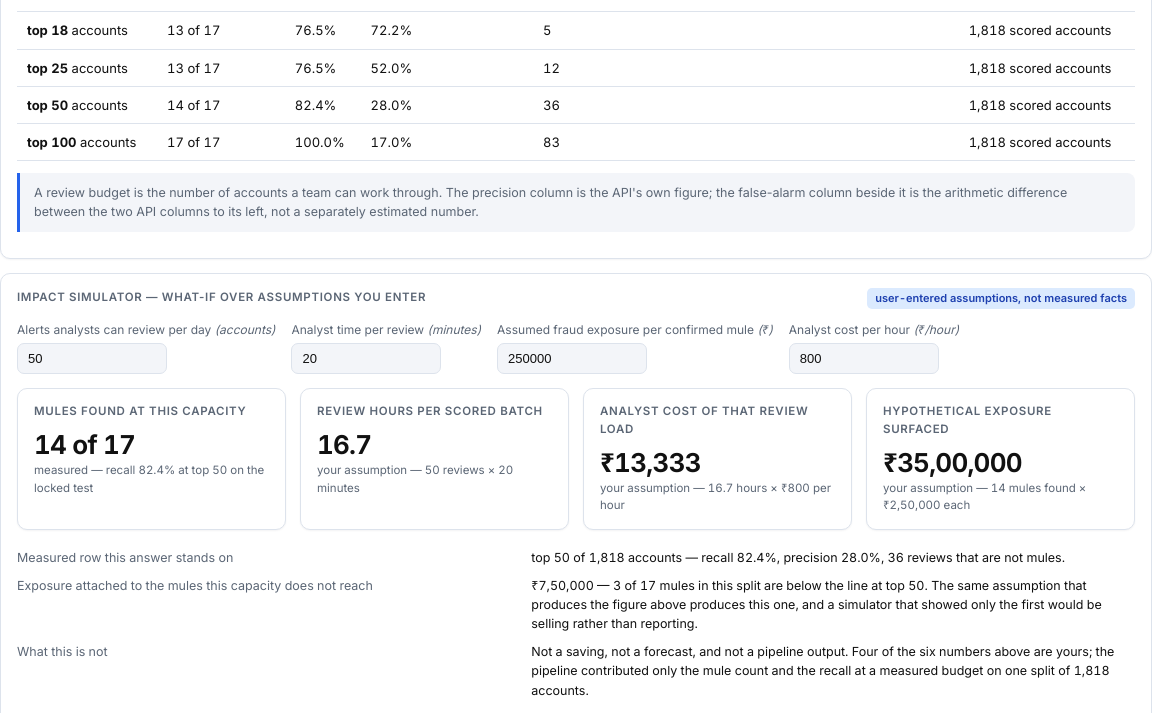
new pages render real API payloads › Impact Simulator prices the user's assumptions against a measured row
(page scrolled)
Expected: the heading "Impact Simulator — what-if over assumptions you enter" is shown, [17,289,426,307]
Expected: the text "user-entered assumptions, not measured facts" is shown, [867,288,1135,309]
Replace the text in the number field labelled "Assumed fraud exposure per confirmed mule (₹)" with "500000": point(572, 359) [497,343,647,374]
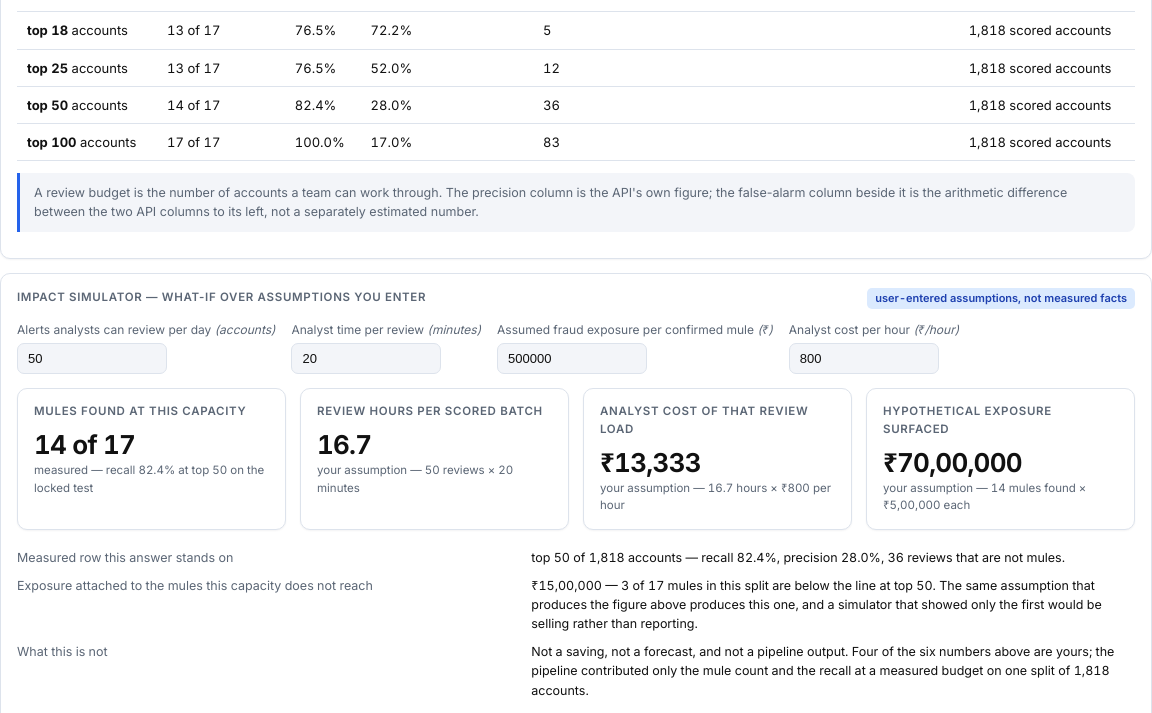
# Below every measured budget the panel refuses rather than extrapolating.
Replace the text in the number field labelled "Alerts analysts can review per day (accounts)" with "3": point(92, 359) [17,343,167,374]
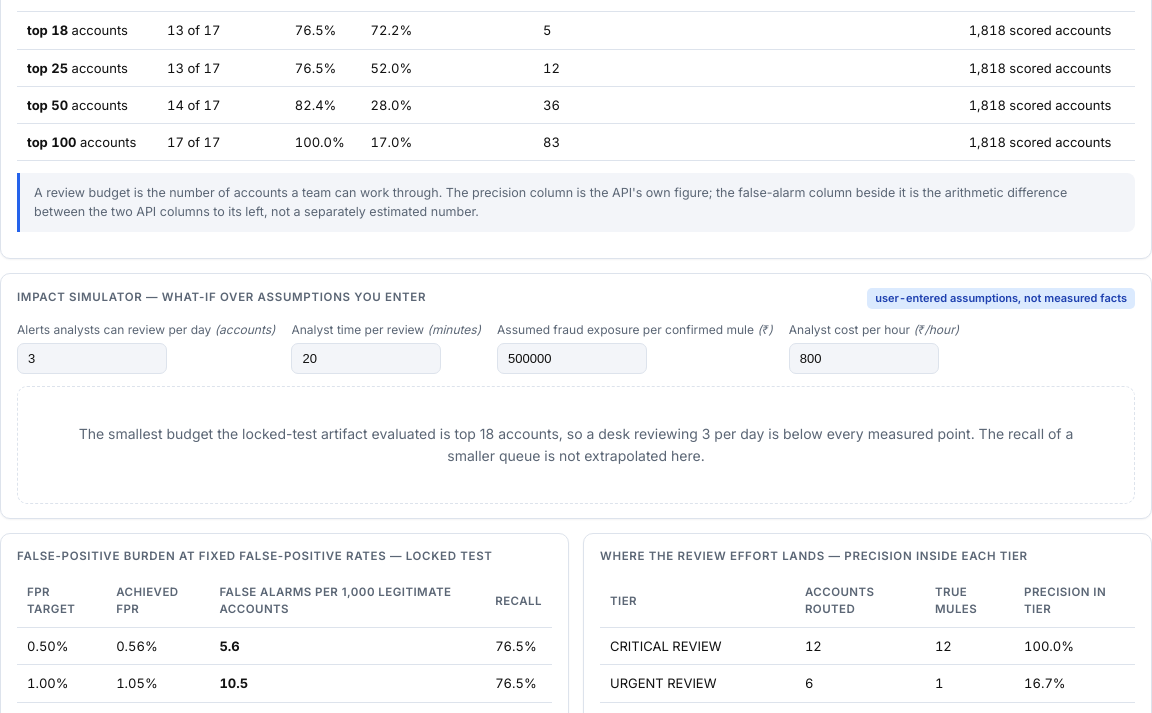
Expected: the text "is below every measured point" is shown, [79,425,1073,464]
